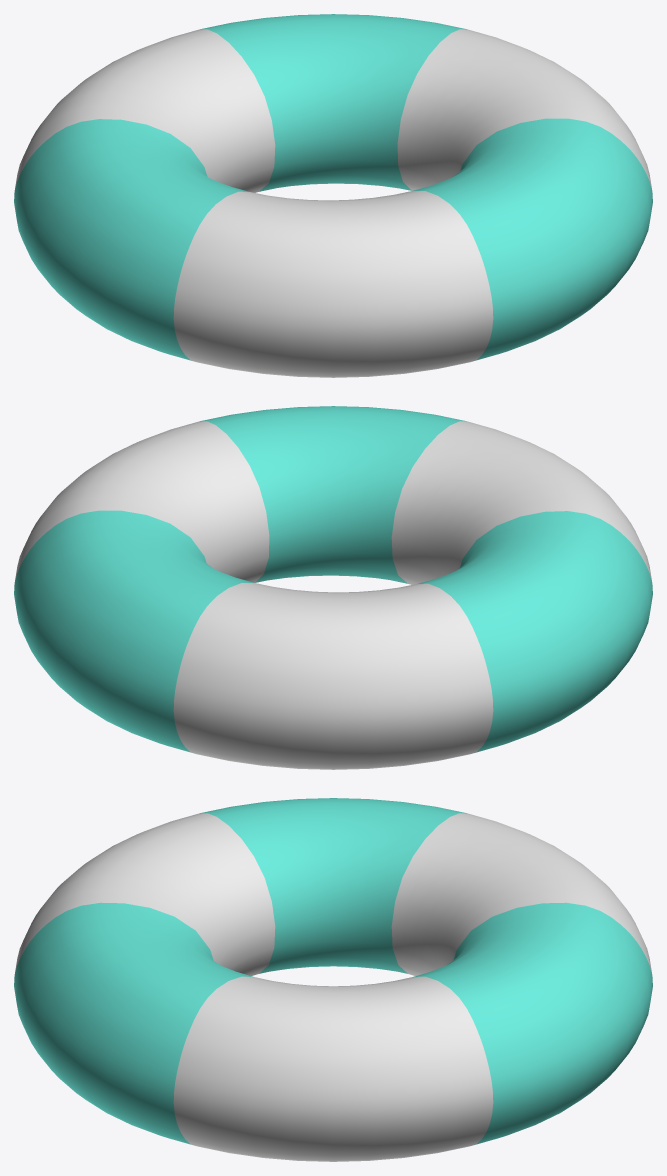
File: flotador.fbx
3 views of the same model, one above another, from view 1: azimuth 30°, elevation 25°; view 2: azimuth 150°, elevation 25°; view 3: azimuth 270°, elevation 25° (orthographic).
Visible parts, largest first — view 1: Torus; view 2: Torus; view 3: Torus.
Part boxes in pixels (x1,y1,x2,y2): Torus: (14, 14, 652, 377); Torus: (14, 406, 652, 769); Torus: (14, 798, 652, 1161).
Bounding box in the file's own units: 2.62 × 0.6786 × 2.62.
